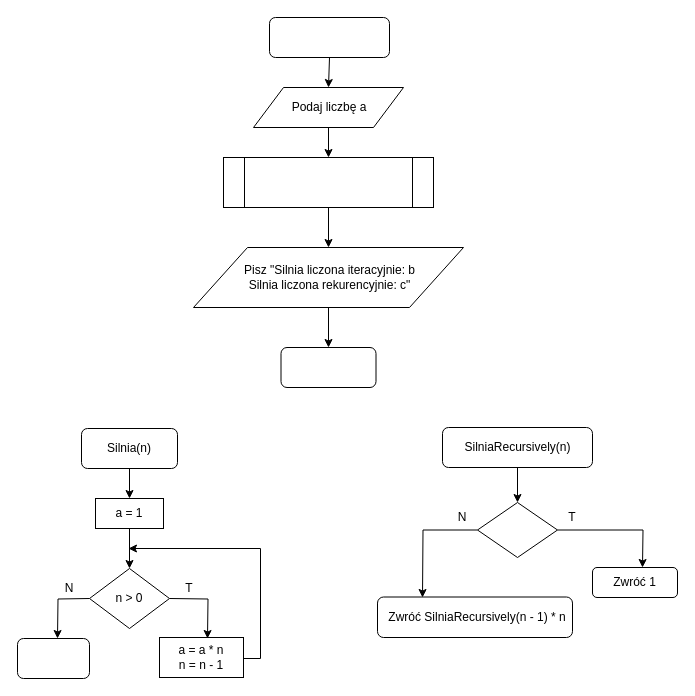
Some shapes in this 695 by 696 pixel diagram are drawn without their labels. The shapes that lost their labels are listed below. From the top down, each one's centre as x and y in pixels, then its label:
At point 329,37: "Start".
At point 328,182: "b = Silnia(a) c = SilniaRecursively(a)".
At point 328,367: "Stop".
At point 517,530: "n < 2".
At point 53,658: "Zwróć a".
